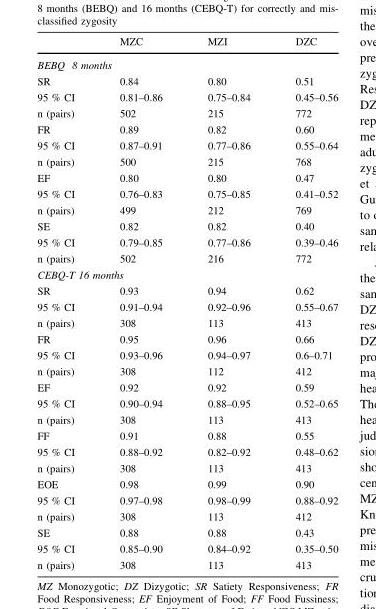table: (36, 36, 337, 570)
table column: (96, 36, 184, 570), (184, 36, 272, 570), (272, 36, 337, 570), (36, 36, 96, 570)
table column header: (36, 36, 337, 53)
table projected row header: (36, 53, 337, 73), (36, 266, 337, 282)
table row: (36, 53, 337, 73), (36, 36, 337, 53), (36, 153, 337, 170), (36, 282, 337, 299), (36, 411, 337, 428), (36, 540, 337, 557), (36, 73, 337, 89), (36, 89, 337, 105), (36, 105, 337, 121), (36, 121, 337, 137), (36, 137, 337, 153), (36, 170, 337, 186), (36, 186, 337, 202), (36, 202, 337, 218), (36, 218, 337, 234), (36, 234, 337, 250), (36, 250, 337, 266), (36, 266, 337, 282), (36, 299, 337, 315), (36, 315, 337, 331), (36, 331, 337, 347), (36, 347, 337, 363), (36, 363, 337, 379), (36, 379, 337, 395), (36, 395, 337, 411), (36, 428, 337, 444), (36, 444, 337, 460), (36, 460, 337, 476), (36, 476, 337, 492), (36, 492, 337, 508), (36, 508, 337, 524), (36, 524, 337, 540), (36, 557, 337, 570)
